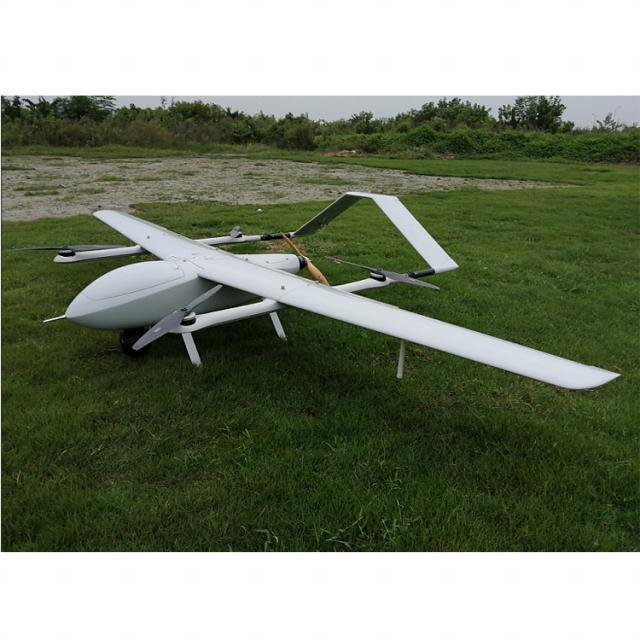iha: (45, 149, 595, 418)
